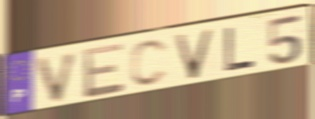5: (266, 11, 305, 67)
C: (128, 38, 170, 89)
E: (81, 41, 126, 101)
L: (223, 25, 257, 75)
V: (35, 49, 82, 105), (171, 27, 218, 82)
